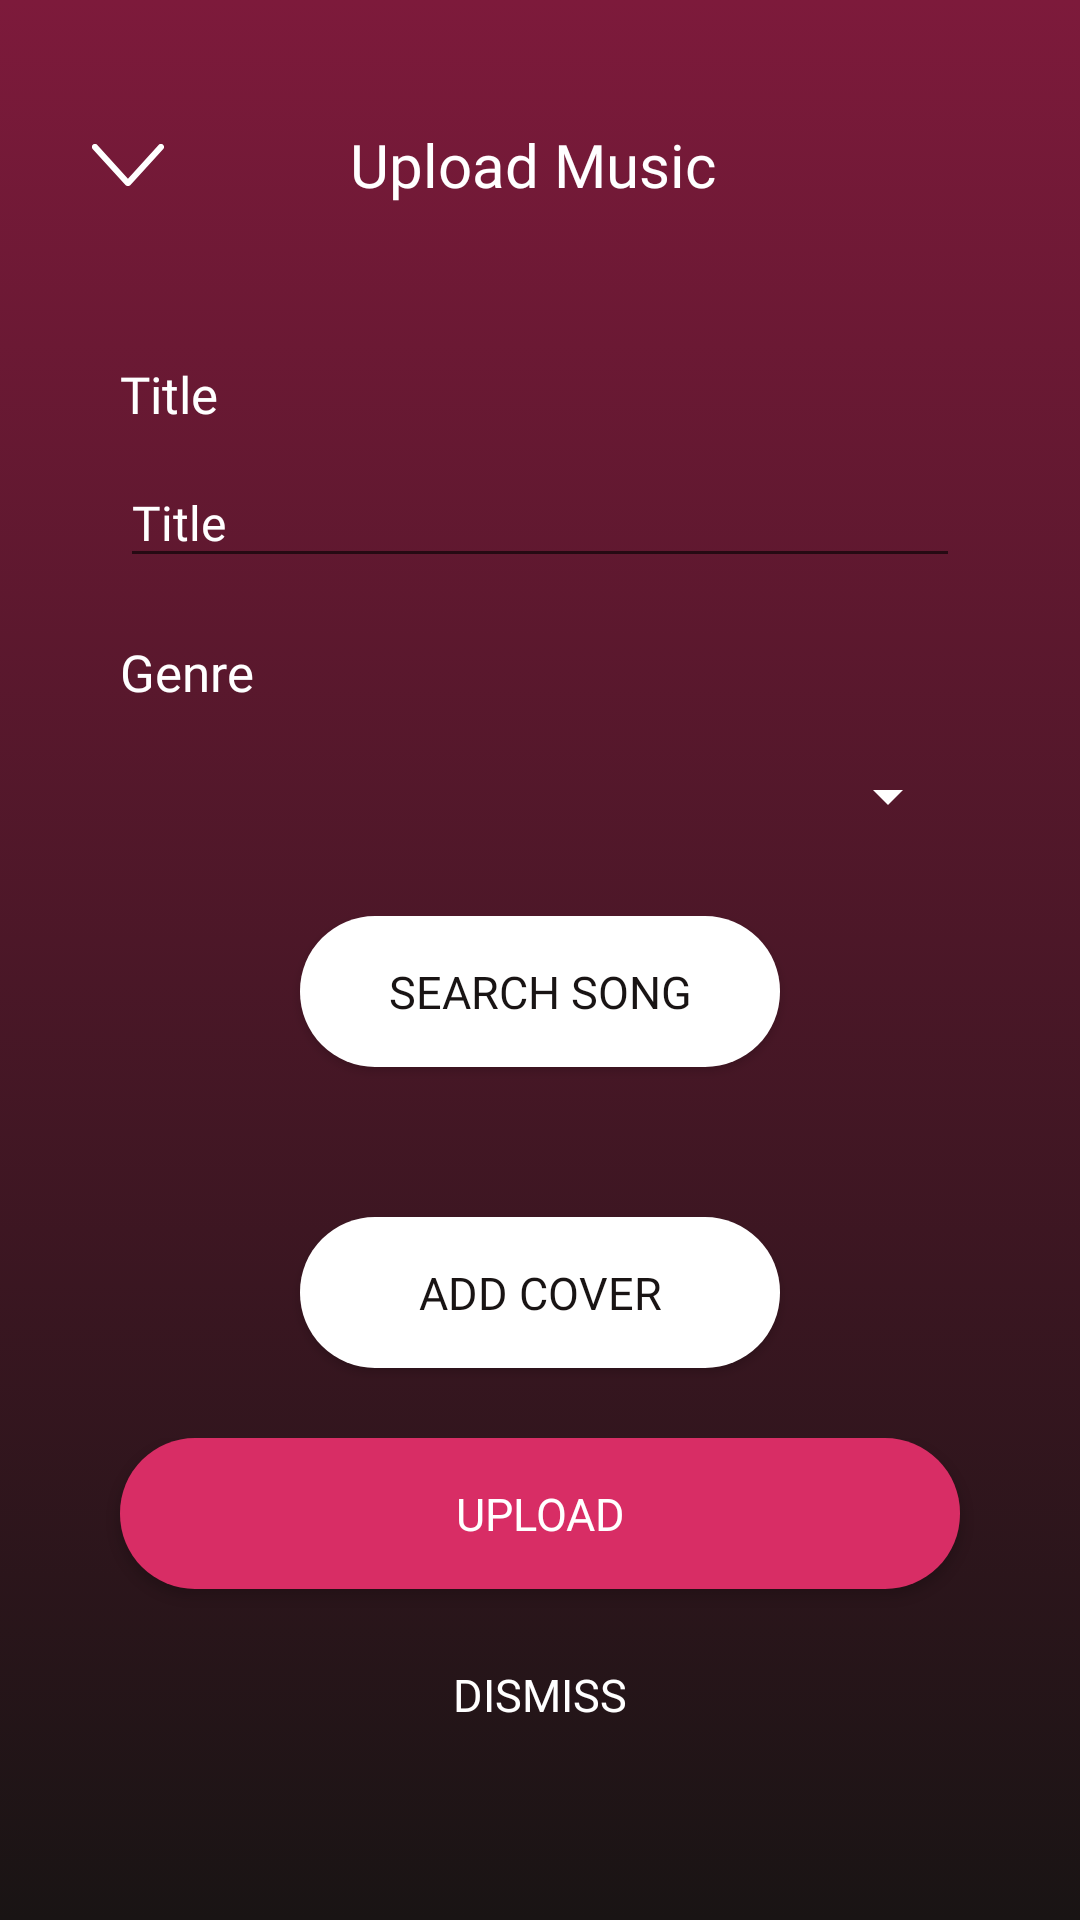

Point at icon controls on the screen. Image size 1080w x 1920h, points as [x,y].
arrow down: [128,165]
